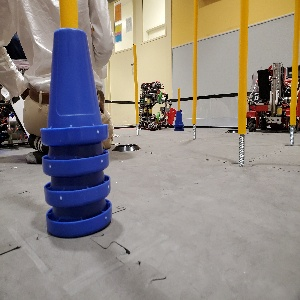Blue_2: (173, 110, 184, 131)
Blue_4: (39, 26, 112, 238)
